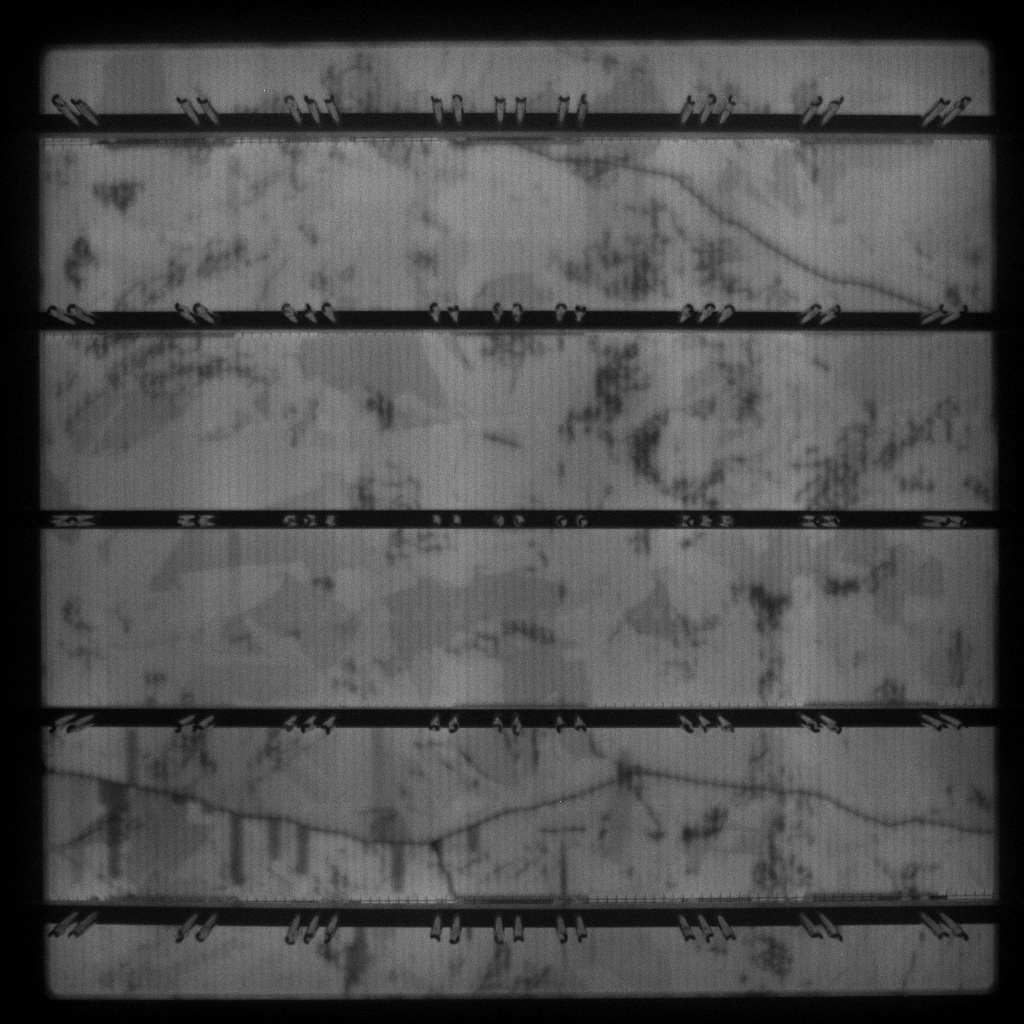crack: (53, 760, 992, 892), (514, 146, 936, 308)
